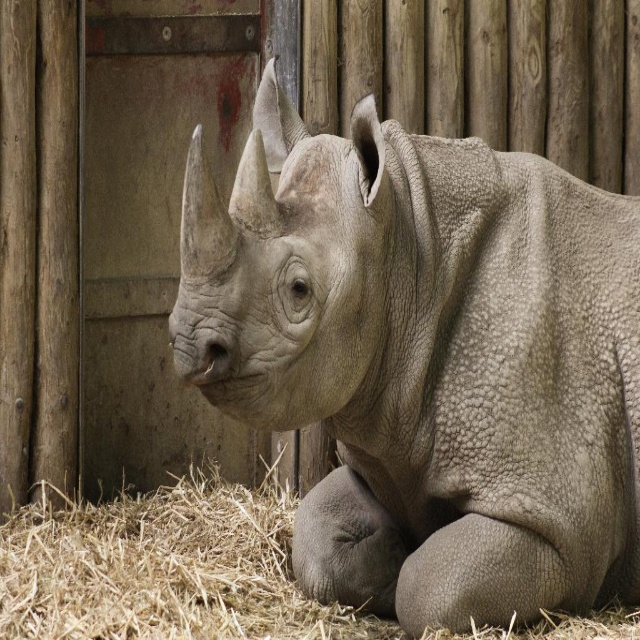Rhinoceros: (164, 56, 640, 639)
